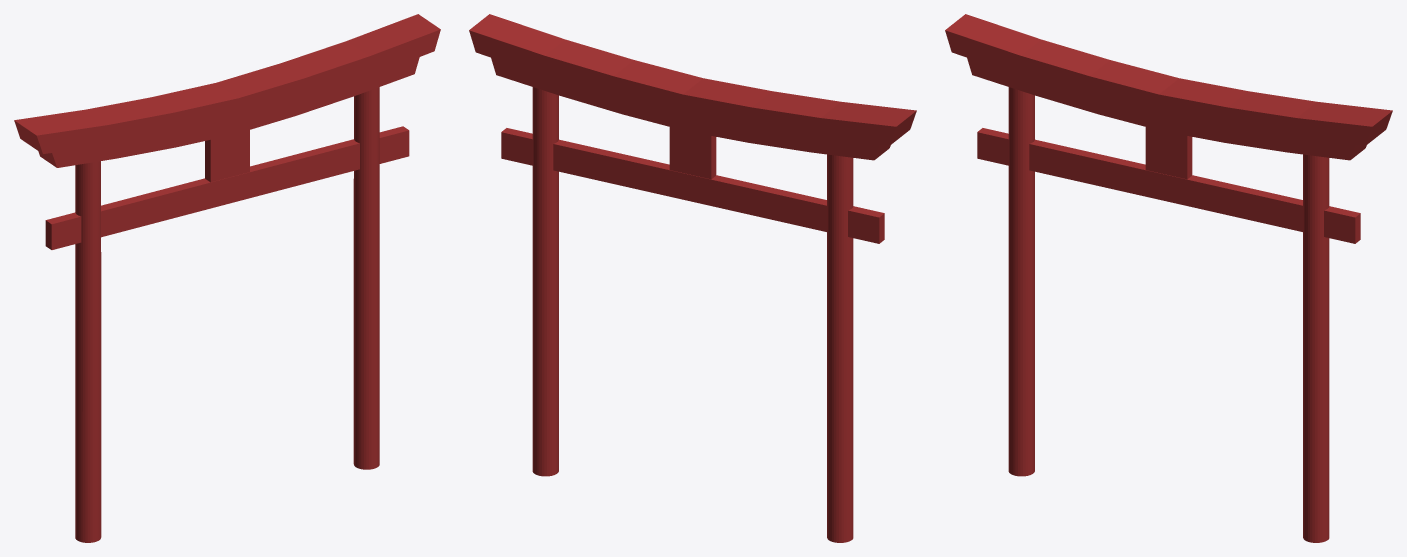
Rendered from Toori01.fbx.
The picture shows the model from 3 angles, left to right: view 1: azimuth 30°, elevation 25°; view 2: azimuth 150°, elevation 25°; view 3: azimuth 330°, elevation 25°; orthographic projection.
Parts seen in each view (by area): view 1: Toori01; view 2: Toori01; view 3: Toori01.
Part boxes in pixels (x1,y1,x2,y2): Toori01: (14,14,440,542); Toori01: (469,14,916,542); Toori01: (945,14,1392,542).
Bounding box in the file's own units: 9.42 × 9.29 × 1.15.
